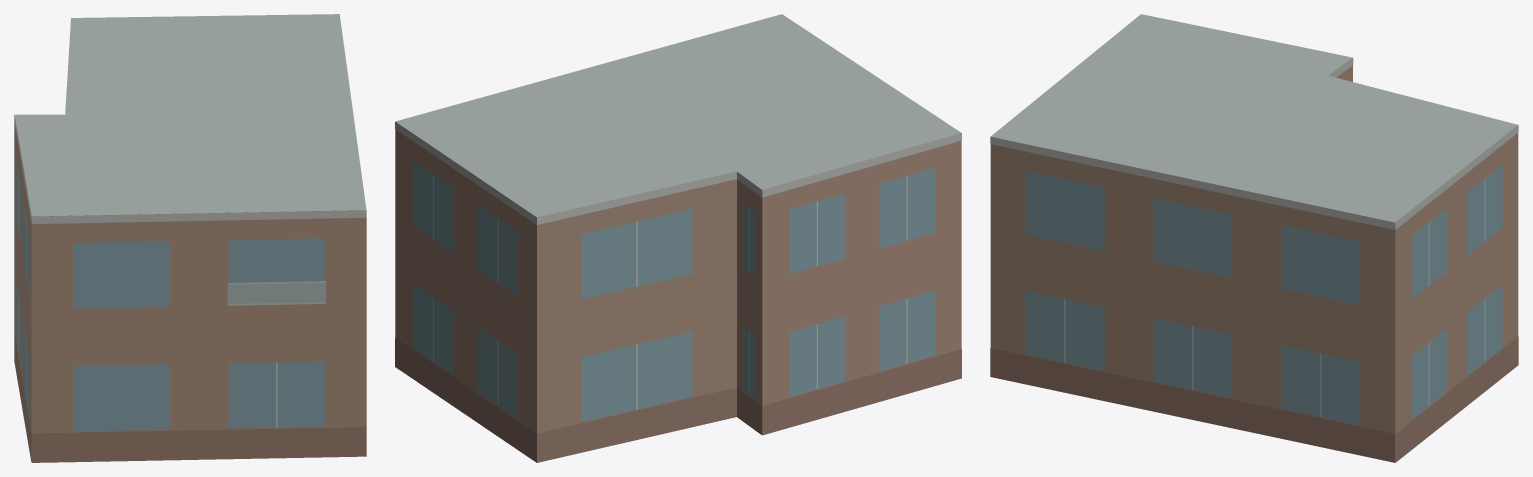
The model's file is survey-upis-32985807.glb.
3 renders of one model, left to right at view 1: azimuth 30°, elevation 25°; view 2: azimuth 150°, elevation 25°; view 3: azimuth 270°, elevation 25°, orthographic. The views are drawn at different scales.
Visible parts, largest first — view 1: survey-upis-32985807.tmp; view 2: survey-upis-32985807.tmp; view 3: survey-upis-32985807.tmp.
Part boxes in pixels (box(x1,y1,x2,y2)): survey-upis-32985807.tmp: box(14, 14, 366, 462); survey-upis-32985807.tmp: box(395, 14, 961, 462); survey-upis-32985807.tmp: box(990, 14, 1518, 462).
Size of the model in its own units: 14.63 by 7.85 by 15.65.
